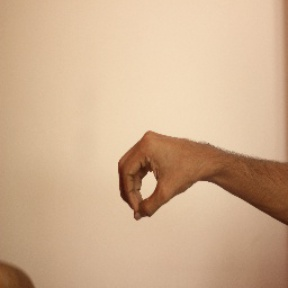O: (117, 126, 204, 225)
